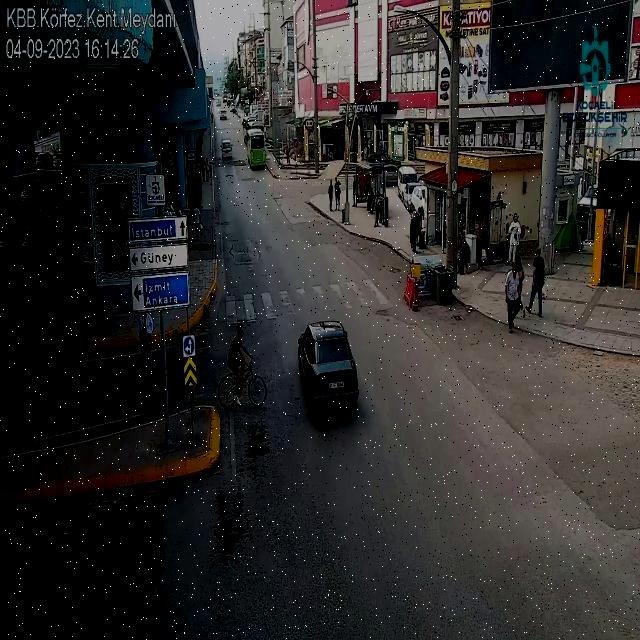Bus: (246, 127, 267, 170)
Car: (298, 319, 361, 412), (220, 137, 232, 159), (219, 107, 228, 120)
Cycle: (218, 325, 266, 411)
